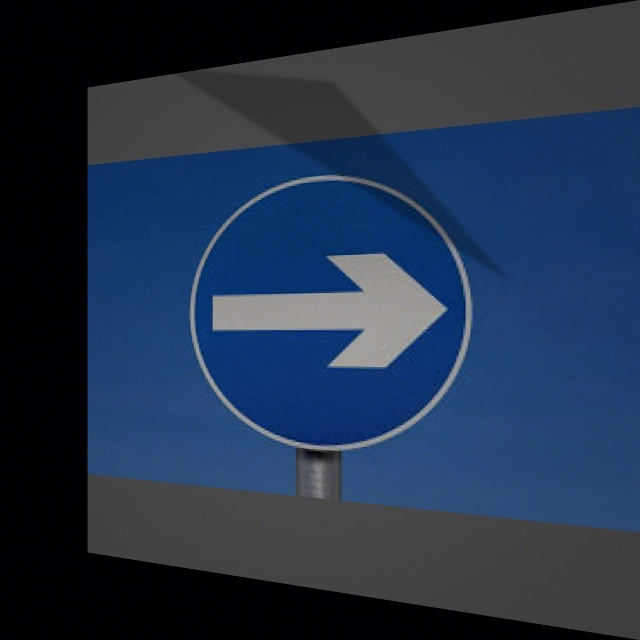Compulsory_Turn_Right: (195, 160, 471, 459)
